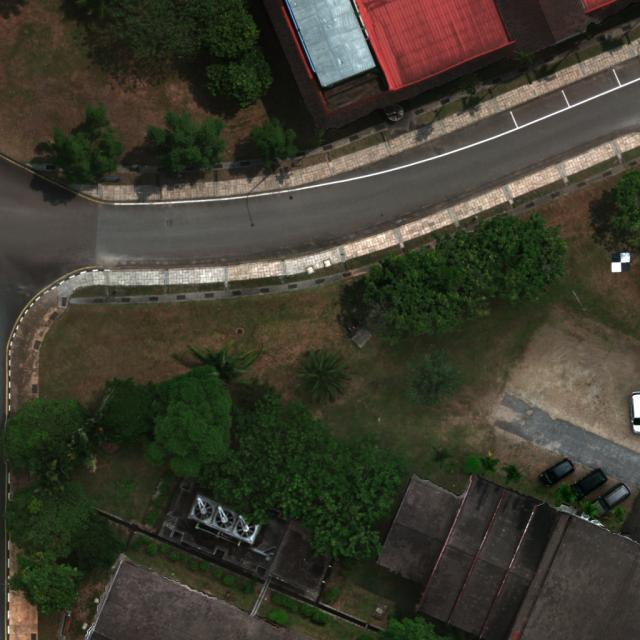blur tree: (500, 462, 523, 486)
tree: (197, 390, 412, 564), (363, 210, 569, 346), (141, 363, 233, 479), (113, 0, 262, 61), (0, 396, 98, 482), (3, 480, 98, 561), (46, 100, 125, 186), (146, 110, 226, 175), (9, 550, 86, 615), (170, 341, 266, 390), (203, 43, 275, 108), (100, 376, 158, 448), (294, 346, 353, 406), (403, 347, 463, 406), (70, 513, 128, 571), (249, 117, 300, 167), (610, 167, 640, 249), (375, 612, 452, 640), (429, 444, 456, 469), (552, 481, 576, 508), (477, 455, 501, 476), (462, 455, 482, 475), (580, 501, 600, 519)
